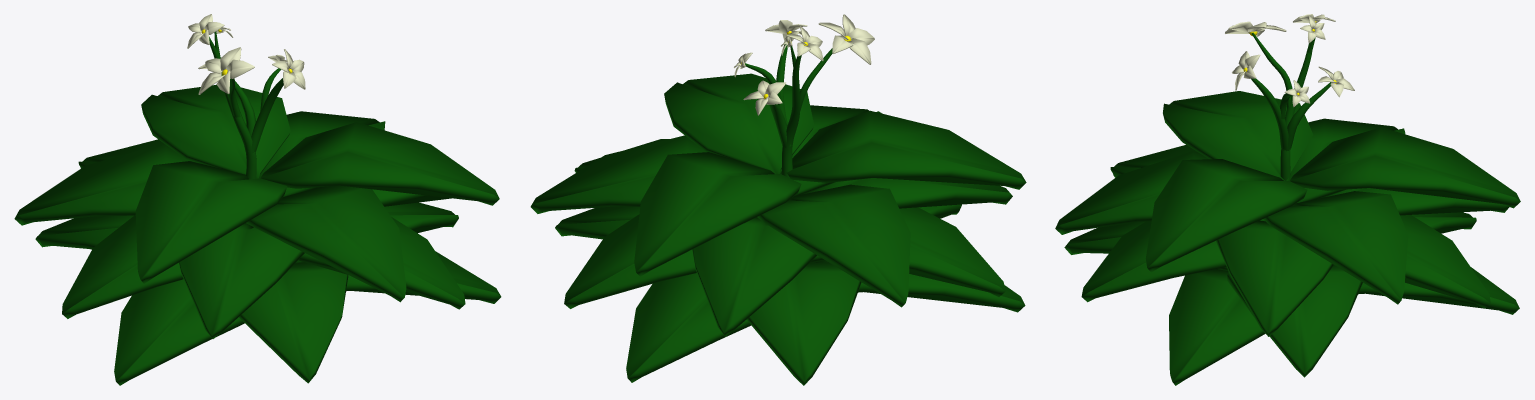
Rendered from fbx_medium_potato.fbx.
3 views of the same model, side by side, from view 1: azimuth 30°, elevation 25°; view 2: azimuth 150°, elevation 25°; view 3: azimuth 270°, elevation 25° (orthographic). The views are drawn at different scales.
Visible parts, largest first — view 1: mediumpotatoeplant; view 2: mediumpotatoeplant; view 3: mediumpotatoeplant.
Boxes of the visible parts, box(x1,y1,x2,y2) form: mediumpotatoeplant: box(14, 14, 501, 385); mediumpotatoeplant: box(530, 14, 1026, 385); mediumpotatoeplant: box(1055, 14, 1520, 385).
Bounding box in the file's own units: 87.12 × 56.23 × 87.
